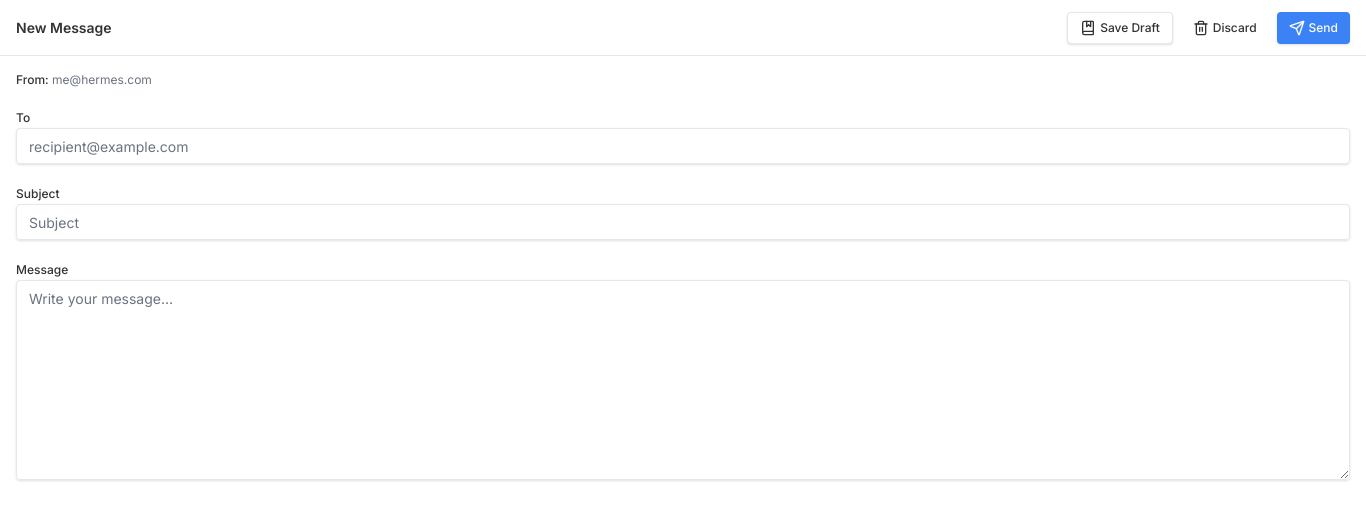
Test: ComposeEditor › Send › shows error for invalid email in To field
Type "not-an-email" into the field with test id "compose-to" at (683, 146), box [16, 128, 1350, 164]
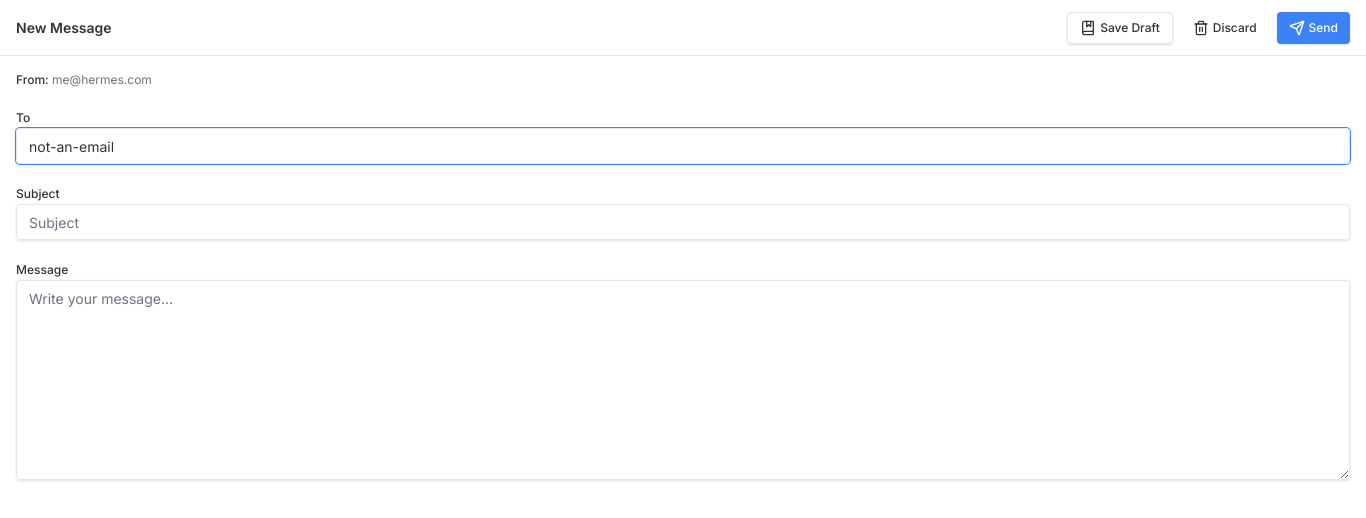
Click the button with test id "compose-send-button" at (1313, 28), box [1277, 12, 1350, 44]
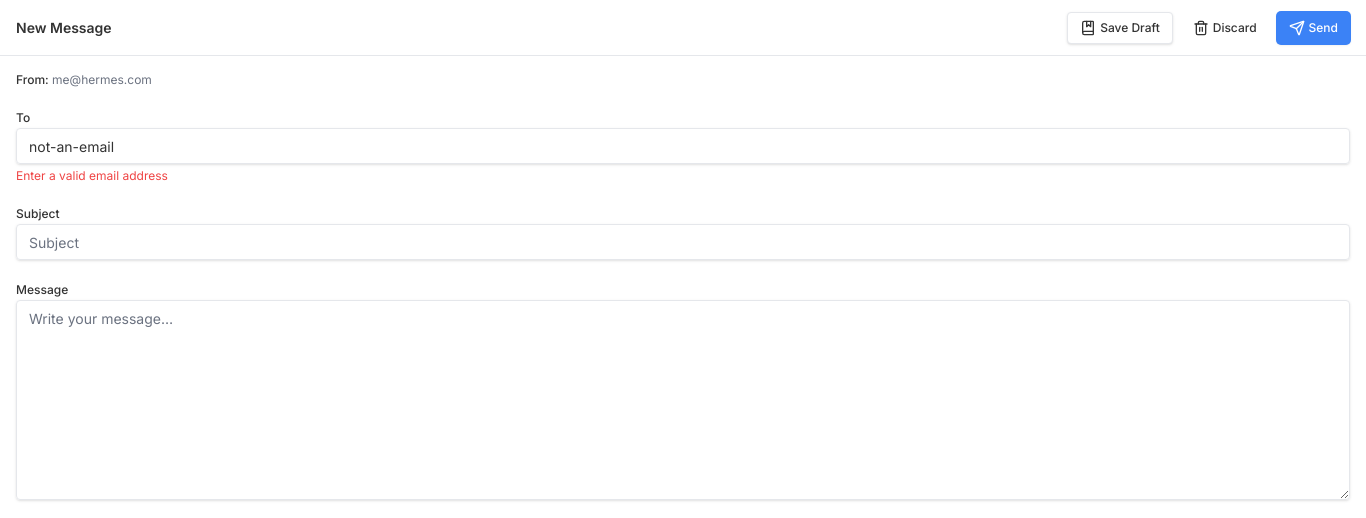
Expected: the message "Enter a valid email address" is shown, [16, 168, 168, 183]
